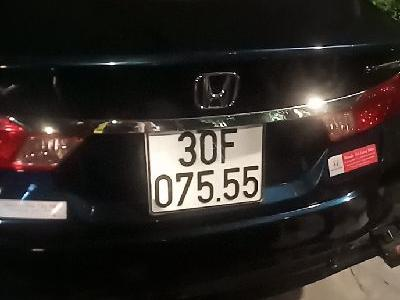number: (145, 125, 266, 215)
